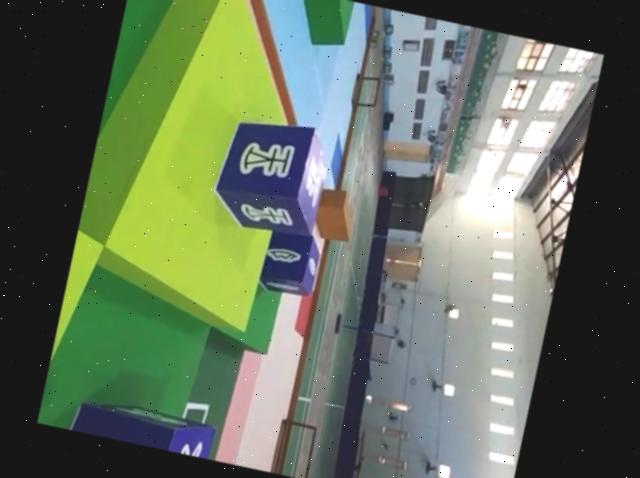R2 Real Blue: (207, 109, 335, 241), (51, 387, 217, 460), (253, 223, 323, 298)
